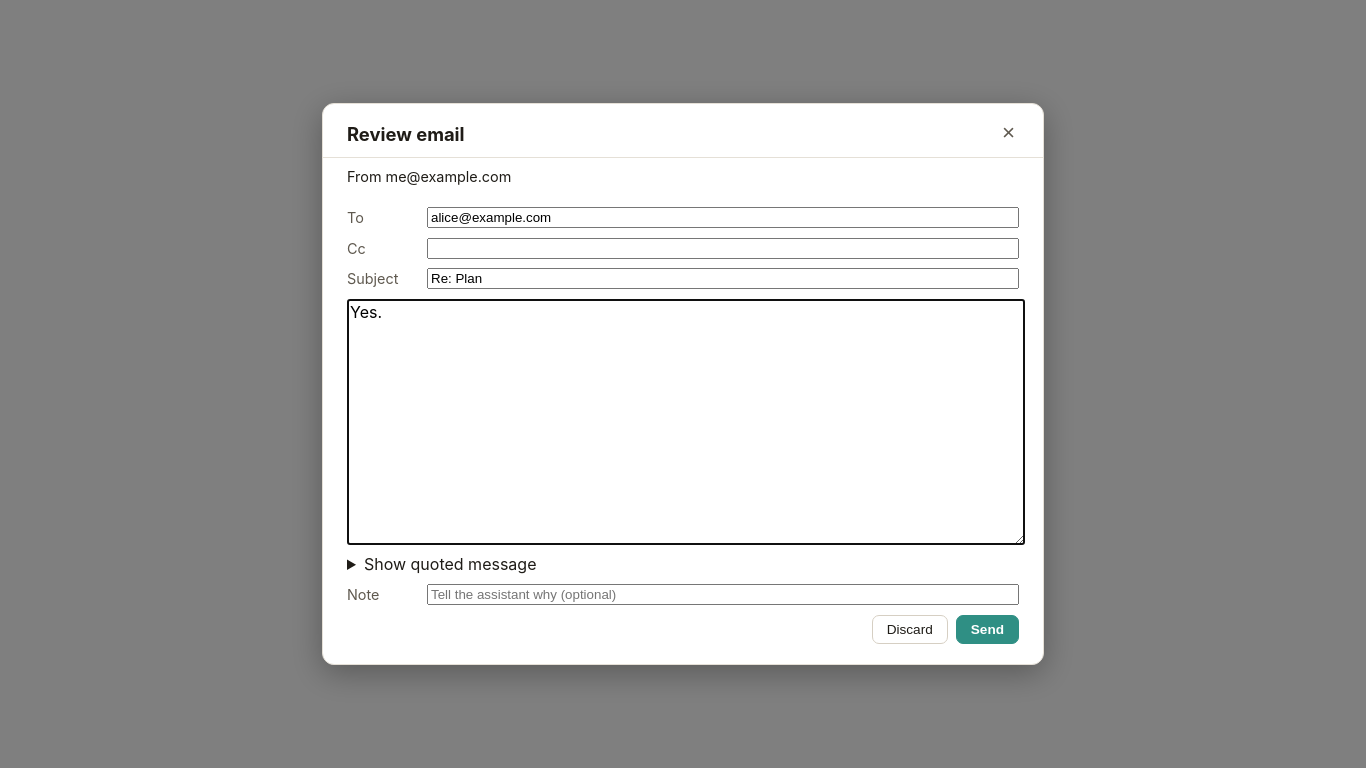
Test: EmailReviewModal › stays open with the error when sending fails
Expected: the heading "Review email" is shown, [347,123,465,145]
Click the button "Send" at (987, 629), box [956,615,1019,644]
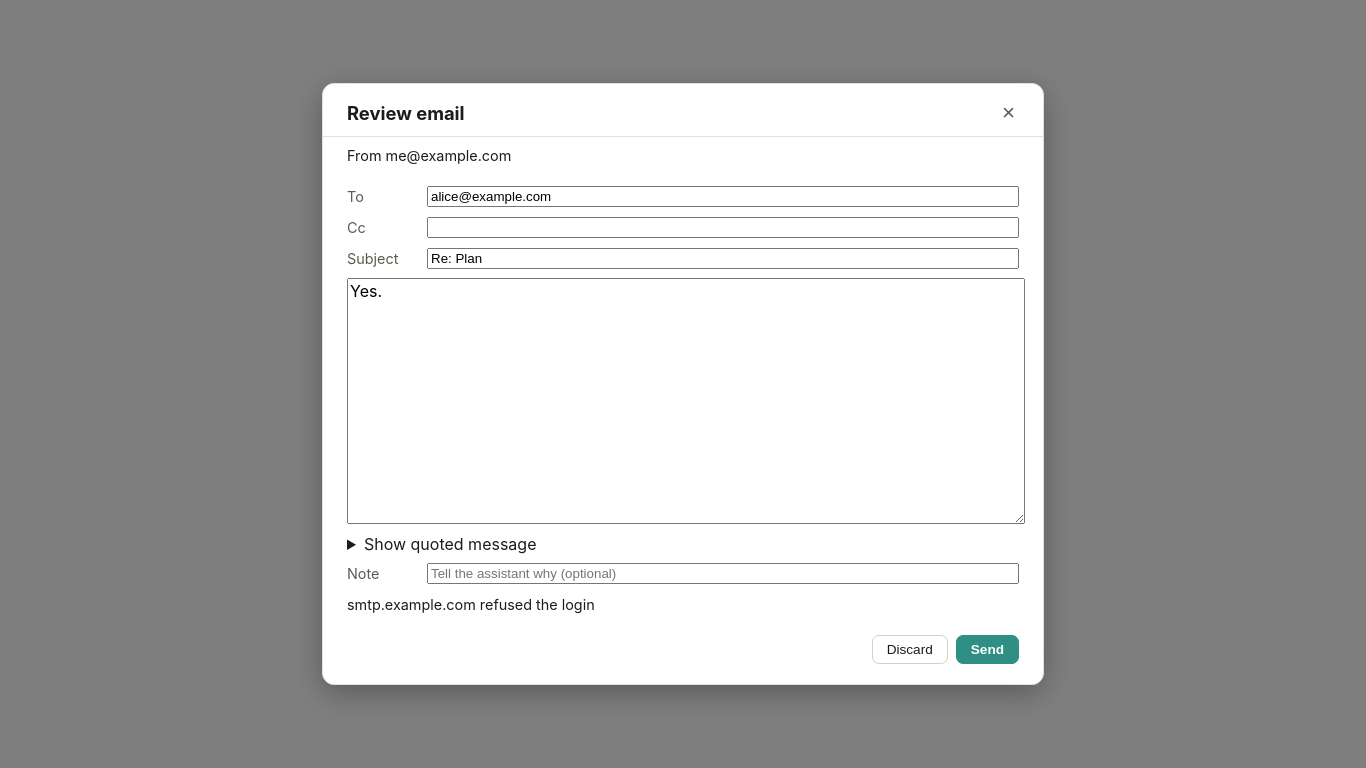
Expected: the heading "Review email" is shown, [347,102,465,124]
Now the text "smtp.example.com refused the login" is shown, box [347,596,595,613]
